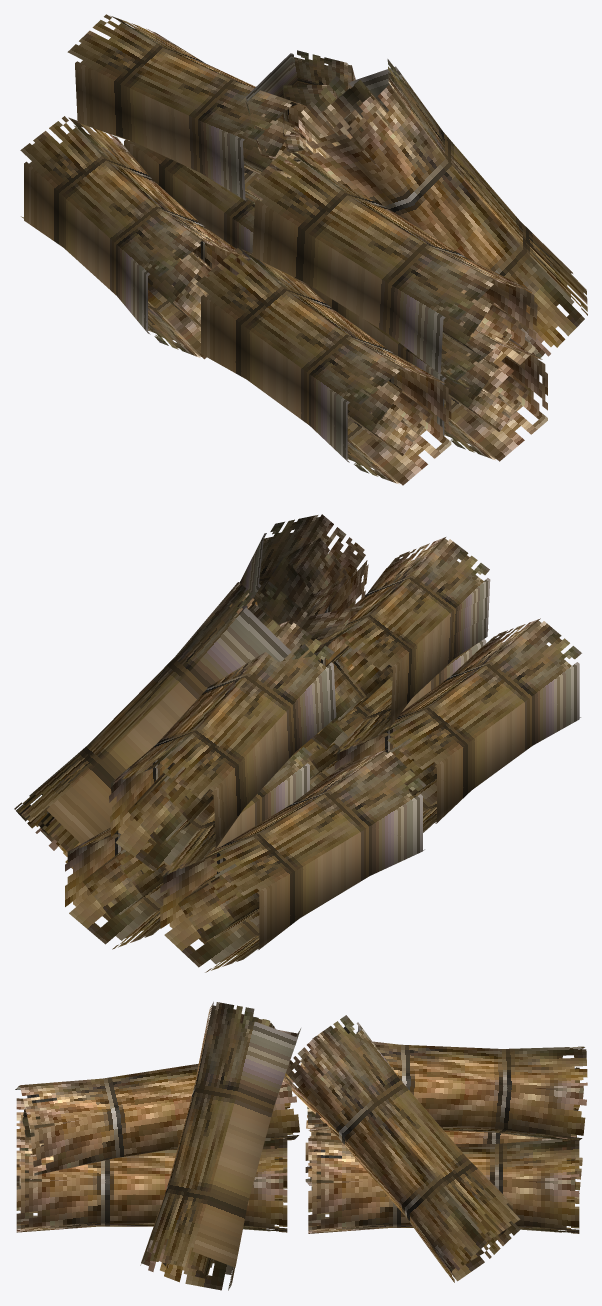
The model's file is Straw02.glb.
3 views of the same model, one above another, from view 1: azimuth 30°, elevation 25°; view 2: azimuth 150°, elevation 25°; view 3: azimuth 270°, elevation 25° (orthographic). The views are drawn at different scales.
Visible parts, largest first — view 1: Straw02; view 2: Straw02; view 3: Straw02.
Boxes of the visible parts, left/top/right/bottom form: Straw02: left=20, top=14, right=587, bottom=485; Straw02: left=14, top=514, right=581, bottom=972; Straw02: left=15, top=1002, right=587, bottom=1290.
Bounding box in the file's own units: 2.55 × 2.06 × 4.32.
1 material, 1 textured.
